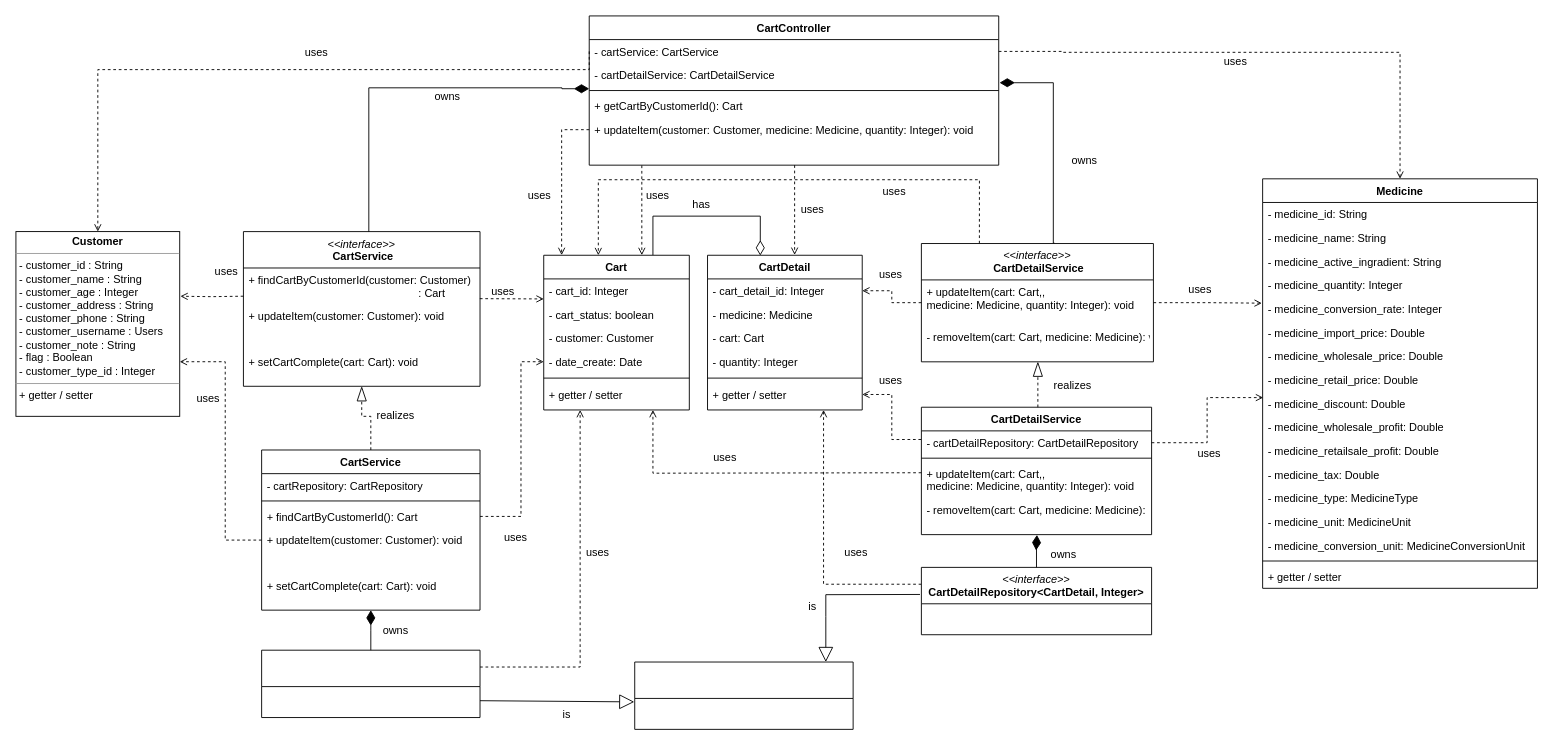
The diagram is 1553 pixels wide and 745 high, and some of its shapes have lost their labels. Here are the shapes that lost their labels. From the top down, the centre of each, then its label:
the point at 370,683: <<interface>> CartRepository<Cart, Integer>
the point at 743,695: <<interface>> JpaRepository
